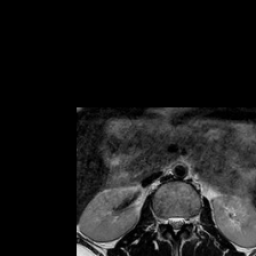CCS_normal: (172, 208, 178, 240)
LFS_normal: (184, 209, 191, 230)
LLS_normal: (178, 208, 184, 232)
RFS_normal: (159, 208, 166, 230)
RLS_normal: (166, 209, 172, 230)
